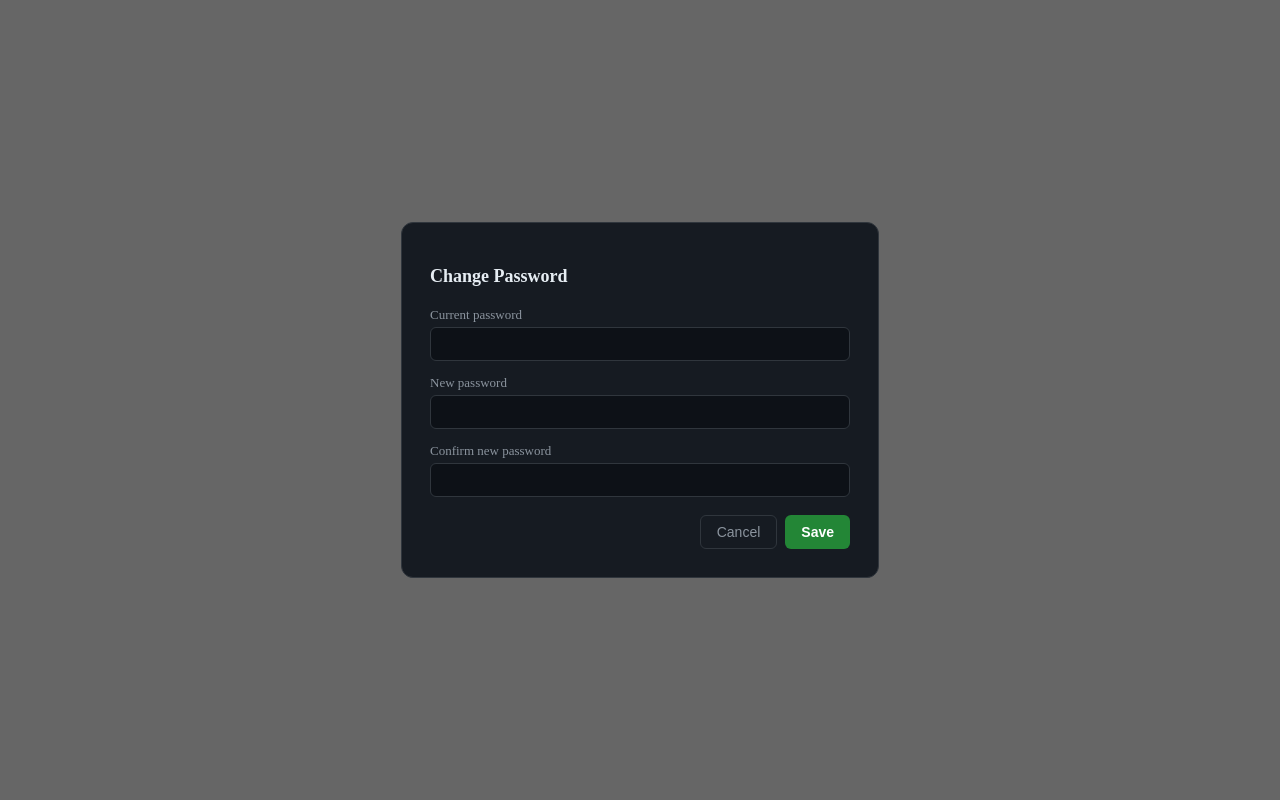
Test: ChangePasswordModal › shows error when passwords do not match
Type "current1" into the password field labelled "Current password".
click(640, 344); type("current1")  # box [430, 327, 850, 361]
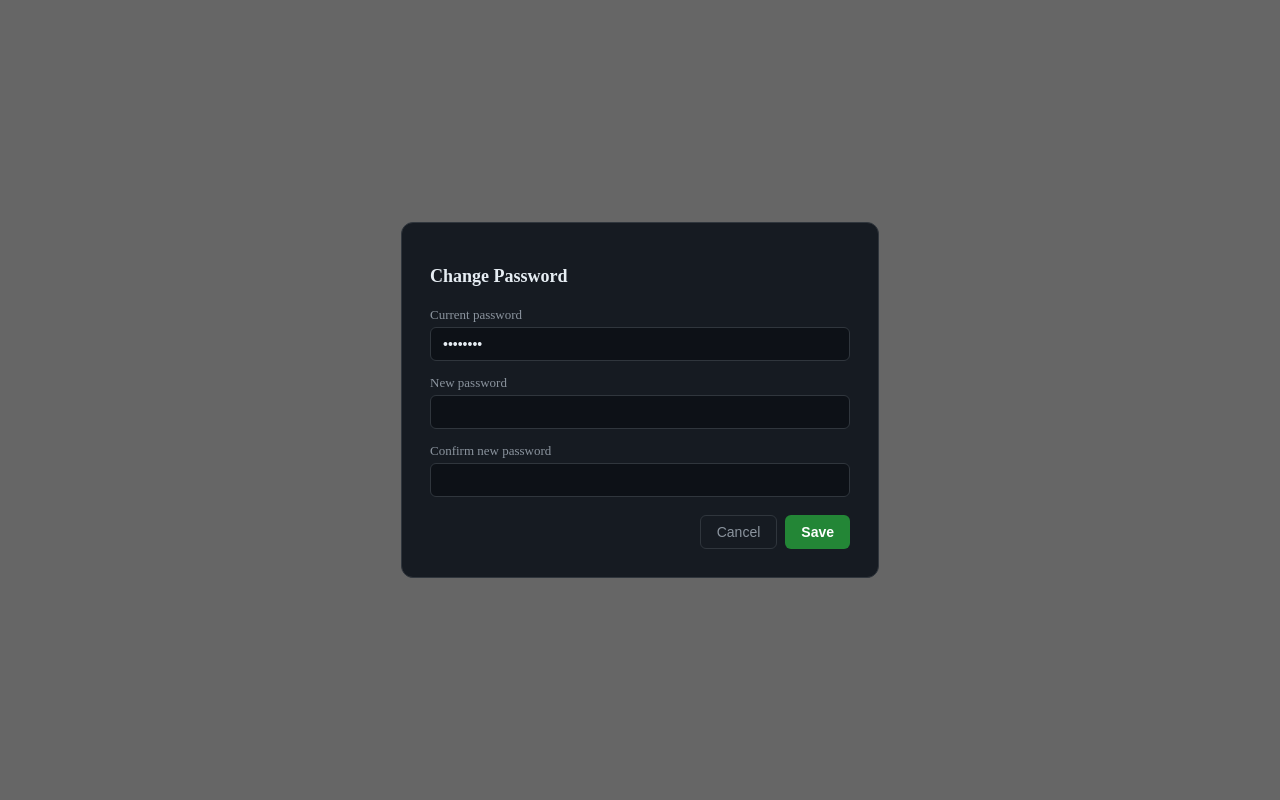
Type "newpassword1" into the password field labelled "New password".
click(640, 412); type("newpassword1")  # box [430, 395, 850, 429]
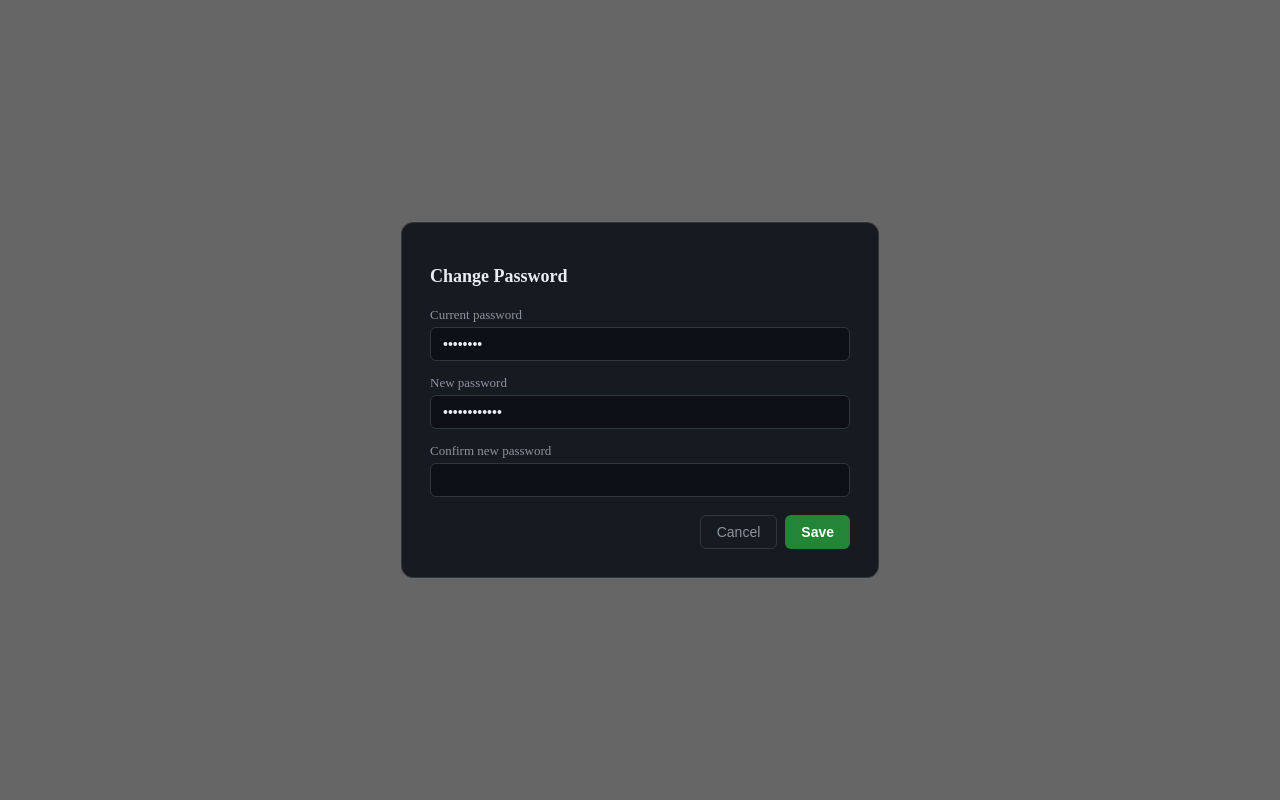
Type "differentpass1" into the password field labelled "Confirm new password".
click(640, 480); type("differentpass1")  # box [430, 463, 850, 497]
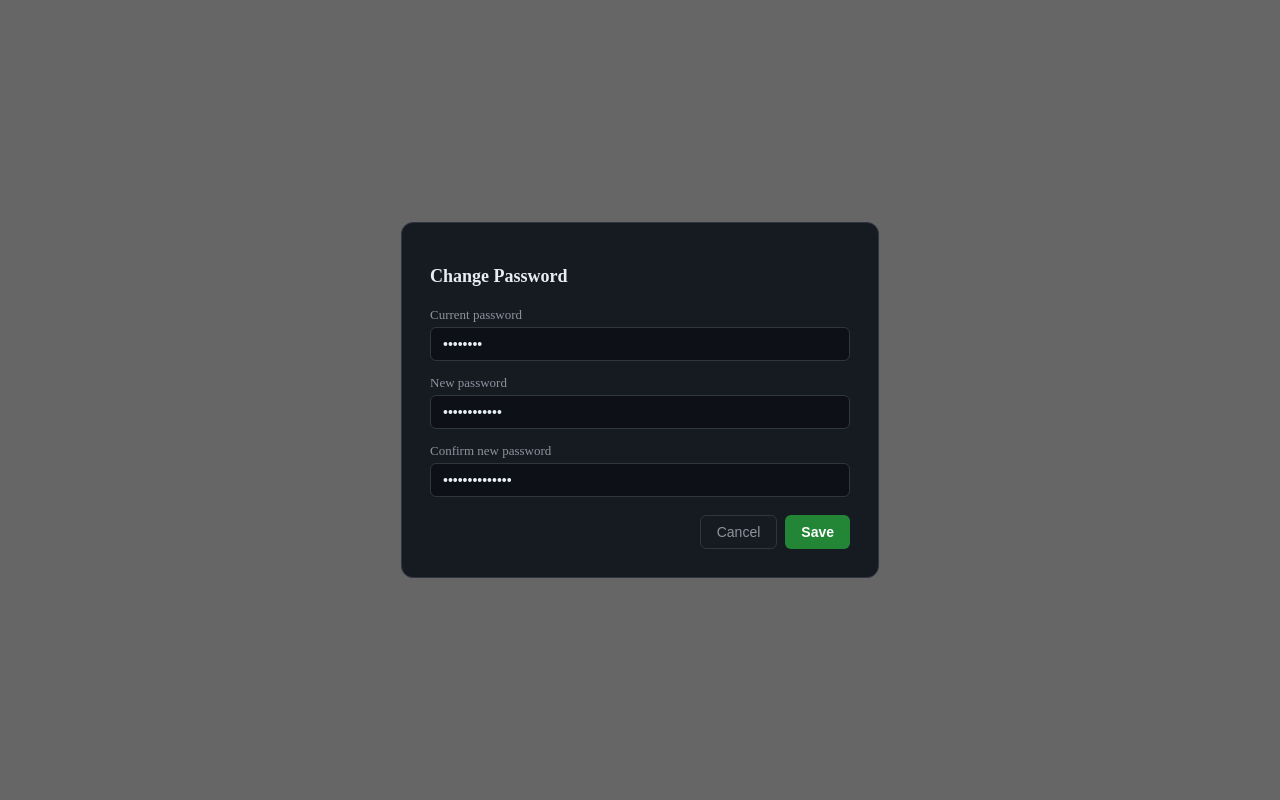
Click the button "Save".
click(818, 532)  # box [785, 515, 850, 549]
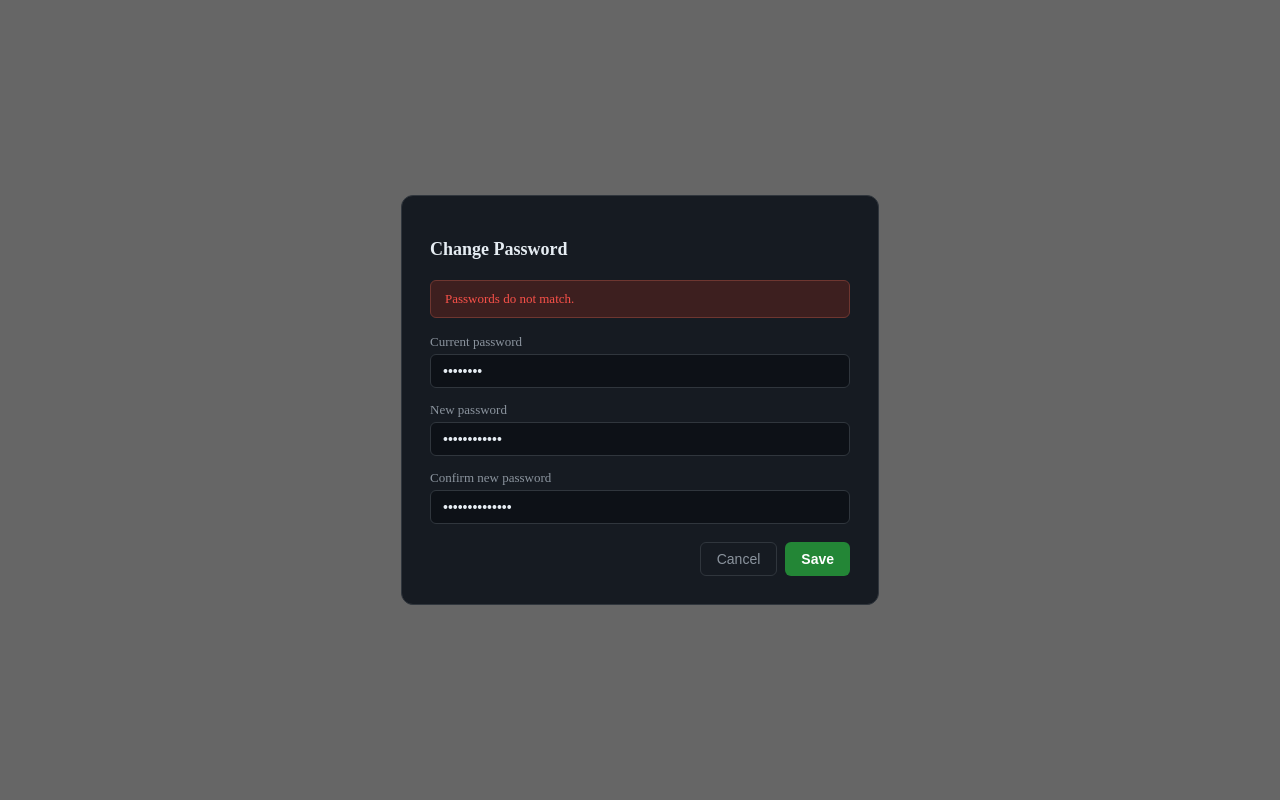
Now the text "Passwords do not match." is shown, box [430, 280, 850, 318]
